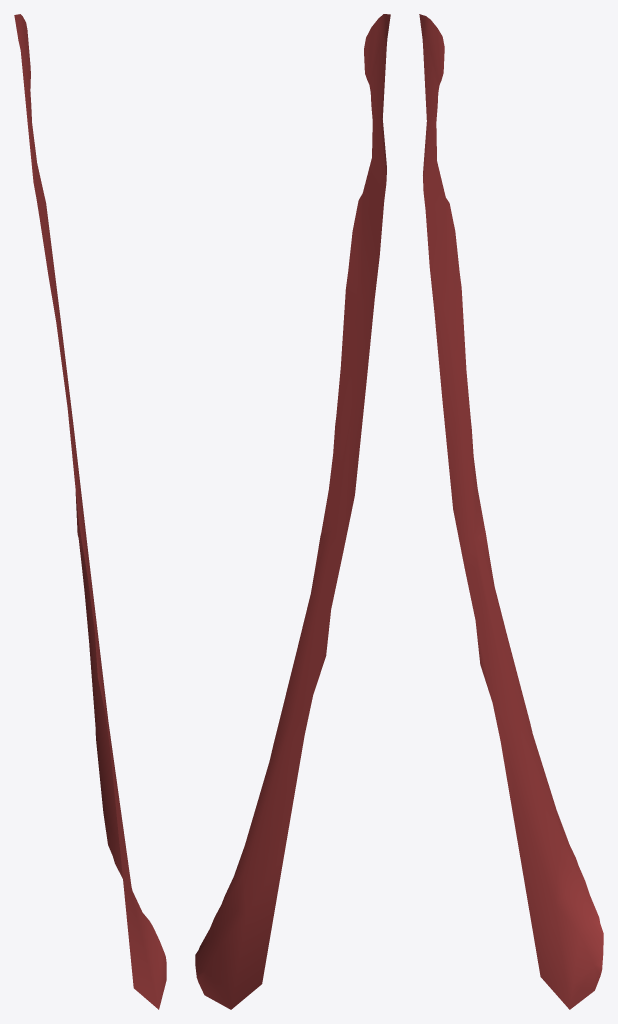
File: vastus-medialis-muscle-or.glb
3 views of the same model, side by side, from view 1: azimuth 30°, elevation 25°; view 2: azimuth 150°, elevation 25°; view 3: azimuth 330°, elevation 25° (orthographic). The views are drawn at different scales.
Visible parts, largest first — view 1: Vastus medialis muscle.or; view 2: Vastus medialis muscle.or; view 3: Vastus medialis muscle.or.
Boxes of the visible parts, bbox=[...] form: Vastus medialis muscle.or: bbox=[14, 14, 166, 1009]; Vastus medialis muscle.or: bbox=[195, 14, 390, 1009]; Vastus medialis muscle.or: bbox=[419, 14, 603, 1009].
Bounding box in the file's own units: 0.0578 × 0.3296 × 0.0287.
